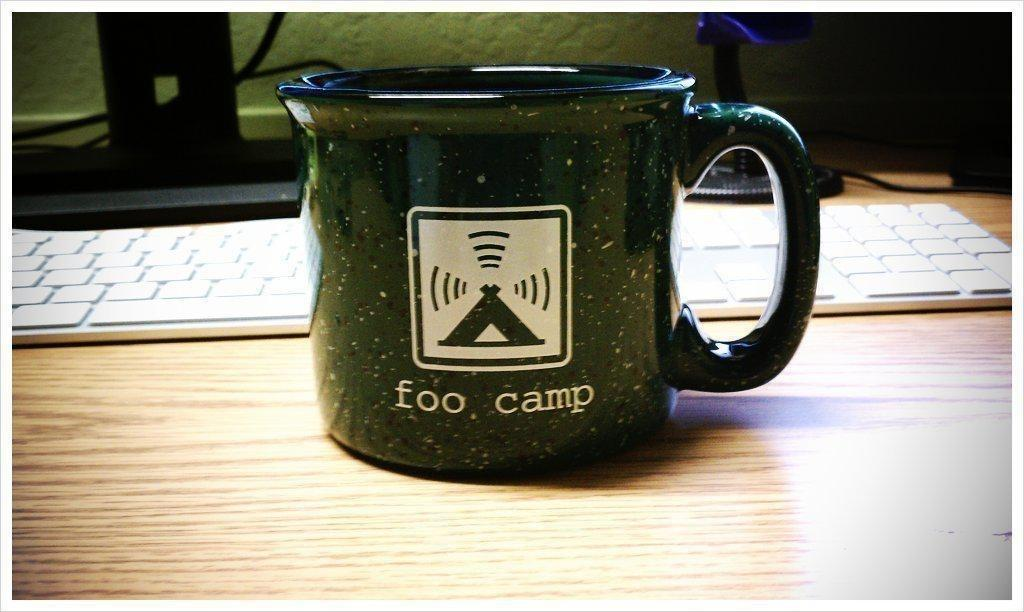cup-handle: (274, 61, 821, 480)
